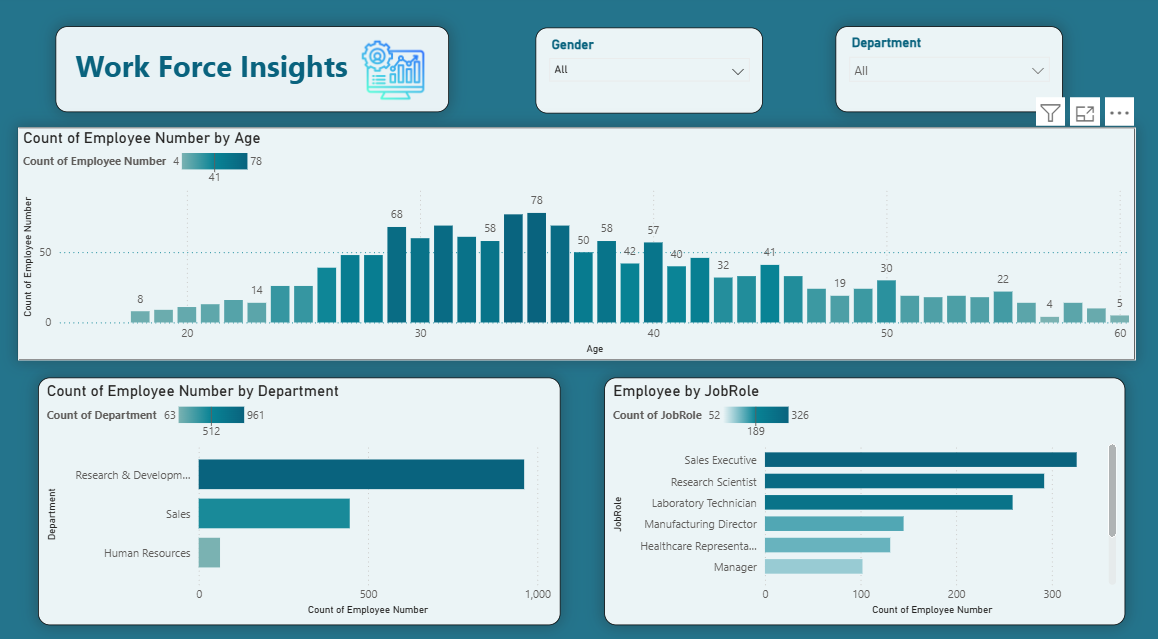

The page's visual inventory and layout, read from the dashboard file:
{"tool":"powerbi","page":{"name":"WorkForce Insights","canvas":[1280,720],"ordinal":2},"visuals":[{"type":"textbox","box":[68.6,34.3,432.2,94.7],"z":0},{"type":"slicer","fields":{"Values":["HR Analytics Data.Department"]},"box":[924.9,34.3,249.7,94.7],"z":1000},{"type":"slicer","fields":{"Values":["HR Analytics Data.Gender"]},"box":[595.5,35.7,249.7,94.7],"z":2000},{"type":"clusteredBarChart","fields":{"Category":["HR Analytics Data.Department"],"Y":["CountNonNull(HR employee data.Employee Number)"]},"box":[49.4,419.9,573.6,271.7],"z":3000},{"type":"clusteredBarChart","title":" Employee by JobRole","fields":{"Category":["HR Analytics Data.JobRole"],"Y":["CountNonNull(HR employee data.Employee Number)"]},"box":[671,419.9,572.2,271.7],"z":4000},{"type":"clusteredColumnChart","fields":{"Y":["CountNonNull(HR employee data.Employee Number)"],"Category":["HR Analytics Data.Age"]},"box":[27.4,145.5,1226.8,255.2],"z":5000},{"type":"image","box":[356.8,48,164.7,68.6],"z":6000}]}

Visuals, with their boxes in screenshot pixels (x1, y1, x2, y2), scaled from the page's 1280x720 canvas onto the 1158x639 screenshot:
textbox: bbox=(62, 30, 453, 114)
slicer - HR Analytics Data.Department: bbox=(837, 30, 1063, 114)
slicer - HR Analytics Data.Gender: bbox=(539, 32, 765, 116)
clusteredBarChart - HR Analytics Data.Department x CountNonNull(HR employee data.Employee Number): bbox=(45, 373, 564, 614)
" Employee by JobRole" clusteredBarChart: bbox=(607, 373, 1125, 614)
clusteredColumnChart - CountNonNull(HR employee data.Employee Number) x HR Analytics Data.Age: bbox=(25, 129, 1135, 356)
image: bbox=(323, 43, 472, 103)
